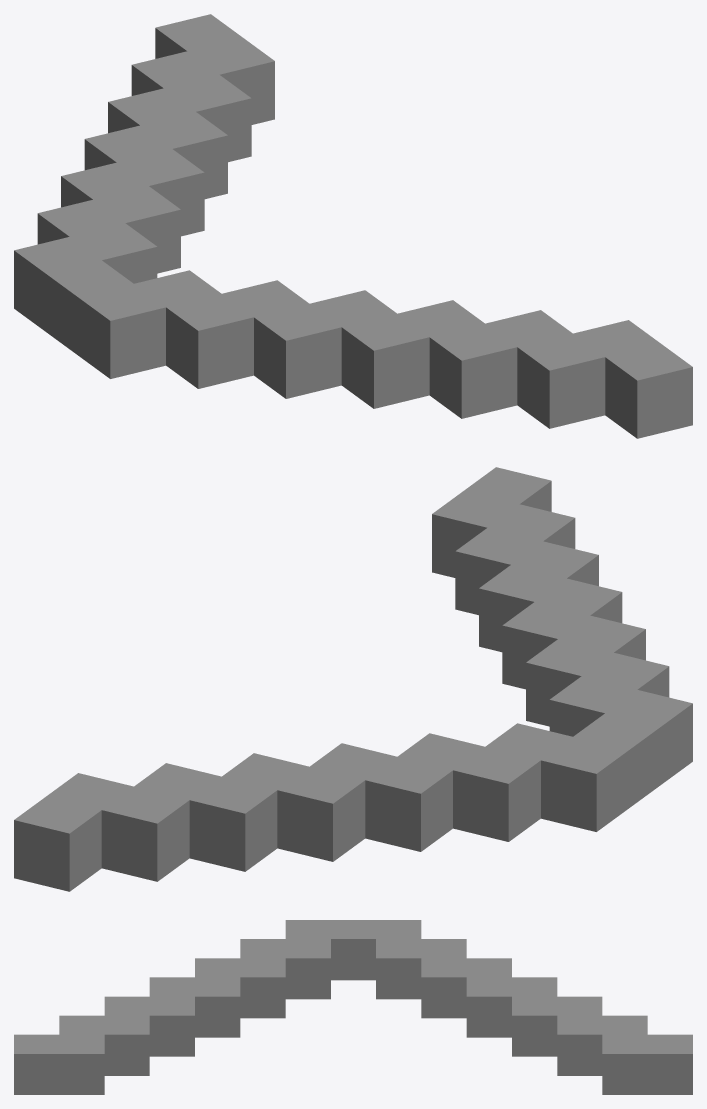
Rendered from BalistaString.obj.
The picture shows the model from 3 angles, top to bottom: view 1: azimuth 30°, elevation 25°; view 2: azimuth 150°, elevation 25°; view 3: azimuth 270°, elevation 25°; orthographic projection. The views are drawn at different scales.
Visible parts, largest first — view 1: BalistaString; view 2: BalistaString; view 3: BalistaString.
Part boxes in pixels (box(x1,y1,x2,y2)): BalistaString: box(14, 14, 692, 438); BalistaString: box(14, 467, 692, 891); BalistaString: box(14, 920, 692, 1094).
Bounding box in the file's own units: 7 × 1 × 15.
1 material, 1 textured.
